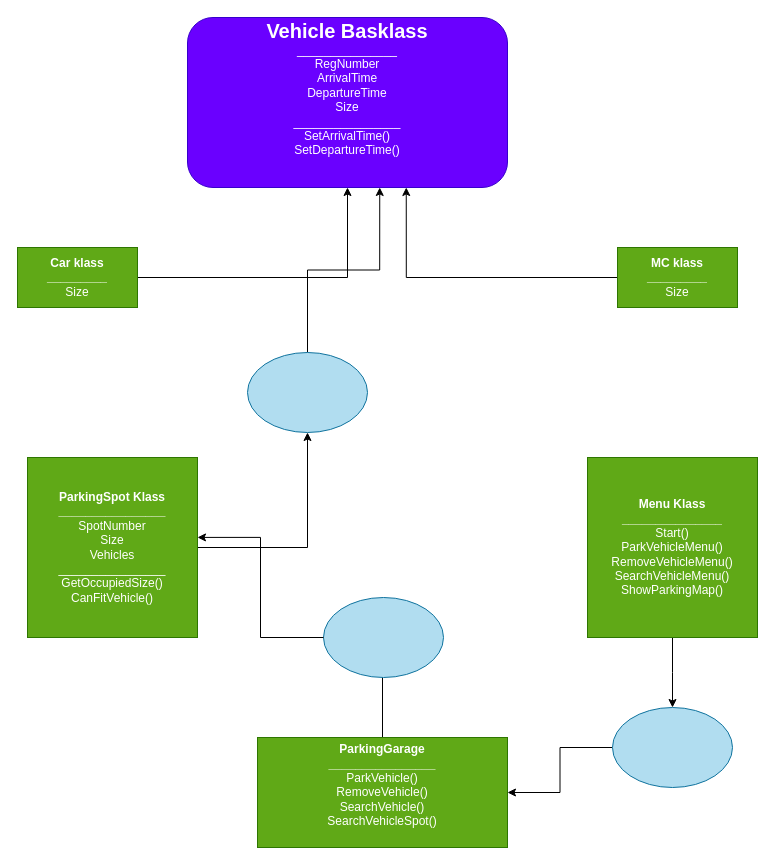
Some shapes in this 775 by 865 pixel diagram are drawn without their labels. Each missing label, with the centre of its shape:
"Innehåller ParkingGarage" goes at point 672,747.
"Innehåller ParkingSpot" goes at point 383,637.
"Innehåller Vehicle" goes at point 307,392.
